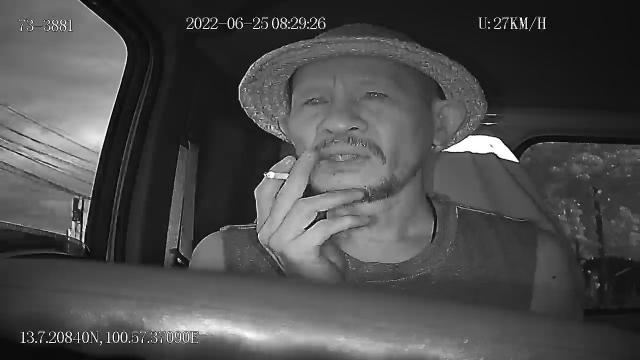SafeDriving: (354, 80, 395, 108), (298, 85, 334, 114)
Smoking: (264, 170, 290, 180)
